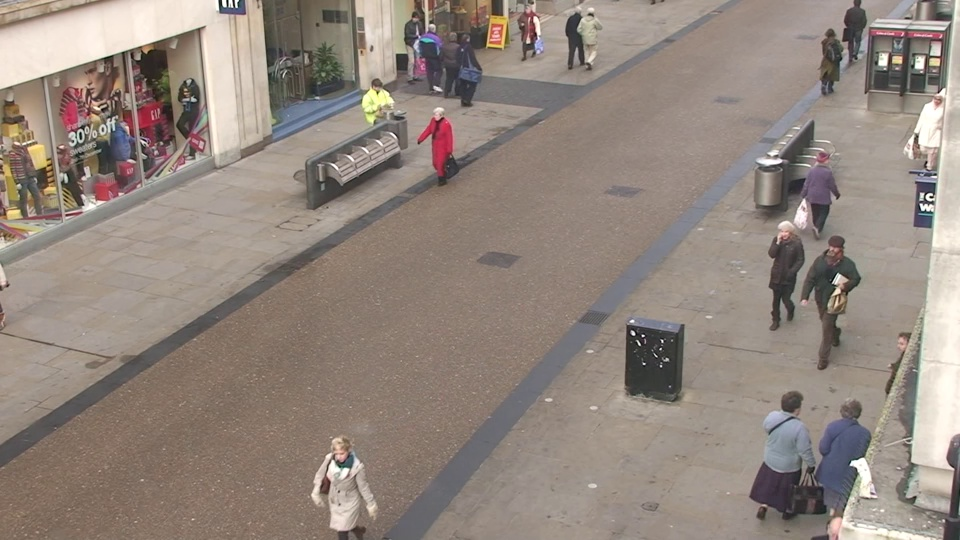pedestrian: (815, 386, 878, 540), (756, 380, 816, 540), (316, 425, 379, 540), (807, 231, 856, 358), (761, 216, 805, 339), (910, 89, 956, 182), (799, 145, 839, 250), (424, 104, 456, 196), (363, 74, 393, 157), (812, 26, 843, 100), (453, 31, 479, 103), (440, 30, 465, 101), (421, 20, 446, 89), (404, 9, 428, 74), (580, 4, 603, 69), (519, 2, 542, 66), (567, 2, 589, 66)
